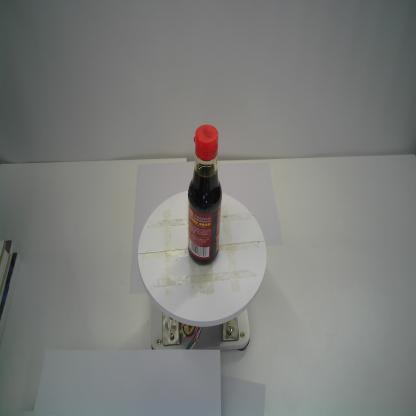Seasoner: (186, 123, 222, 266)
